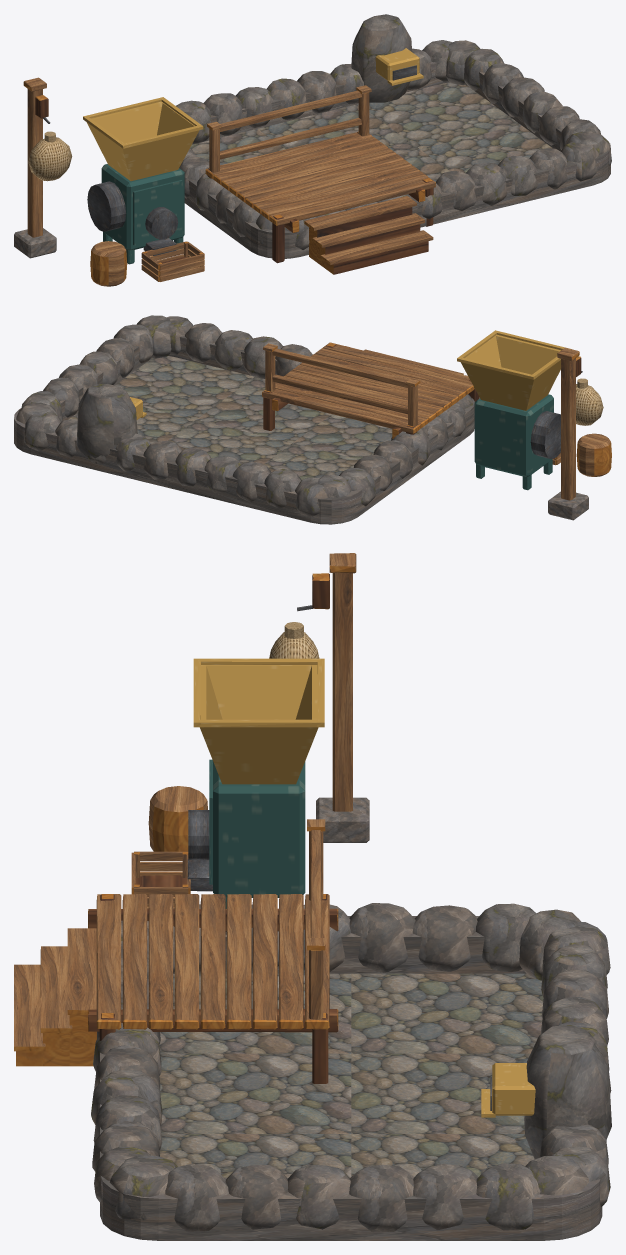
The model's file is FishPond_Cozy_LOD1.fbx.
The picture shows the model from 3 angles, top to bottom: view 1: azimuth 30°, elevation 25°; view 2: azimuth 150°, elevation 25°; view 3: azimuth 270°, elevation 25°; orthographic projection. The views are drawn at different scales.
Visible parts, largest first — view 1: FishPond_Cozy_LOD1; view 2: FishPond_Cozy_LOD1; view 3: FishPond_Cozy_LOD1.
Part boxes in pixels (x1,y1,x2,y2): FishPond_Cozy_LOD1: [14, 14, 611, 286]; FishPond_Cozy_LOD1: [14, 315, 611, 524]; FishPond_Cozy_LOD1: [14, 553, 611, 1240].
Size of the model in its own units: 12.12 by 3.62 by 7.14.
